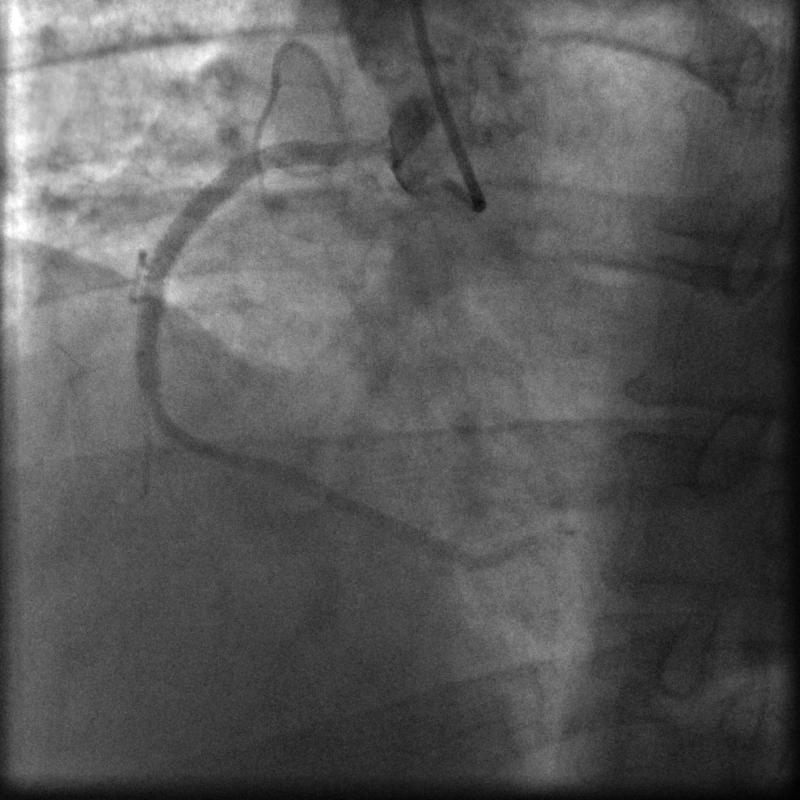Stenosis: (133, 368, 171, 429)
